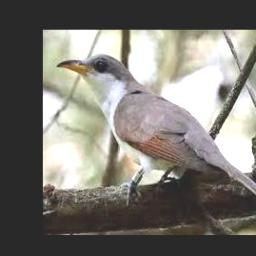Cuckoo: (58, 54, 256, 212)
